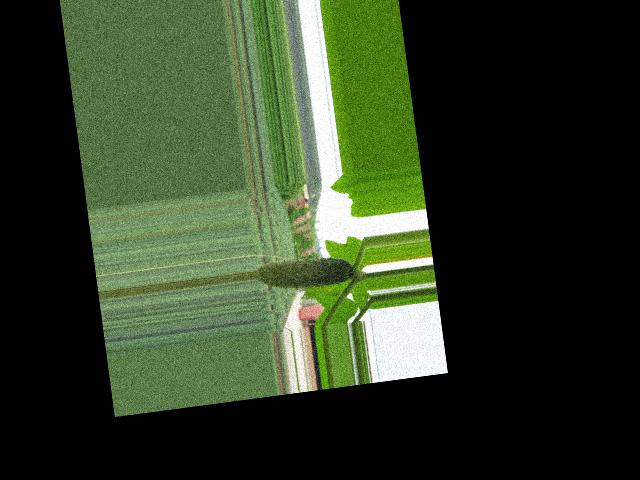cucumber: (254, 251, 353, 294)
